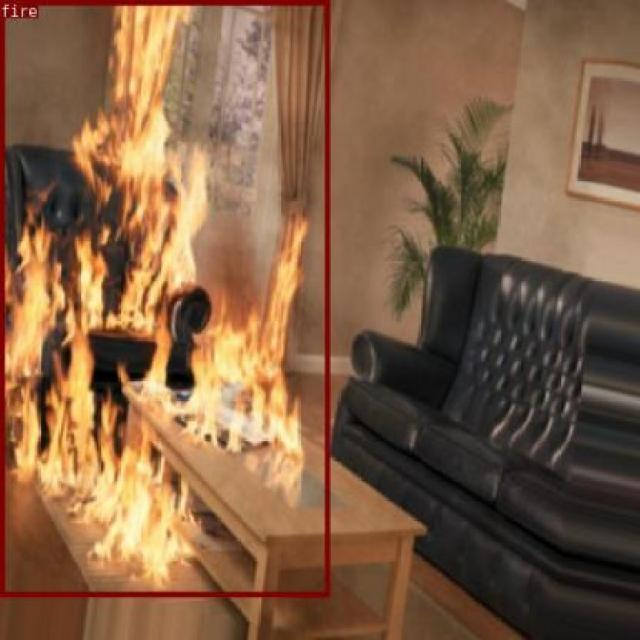Fire: (0, 0, 329, 595)
